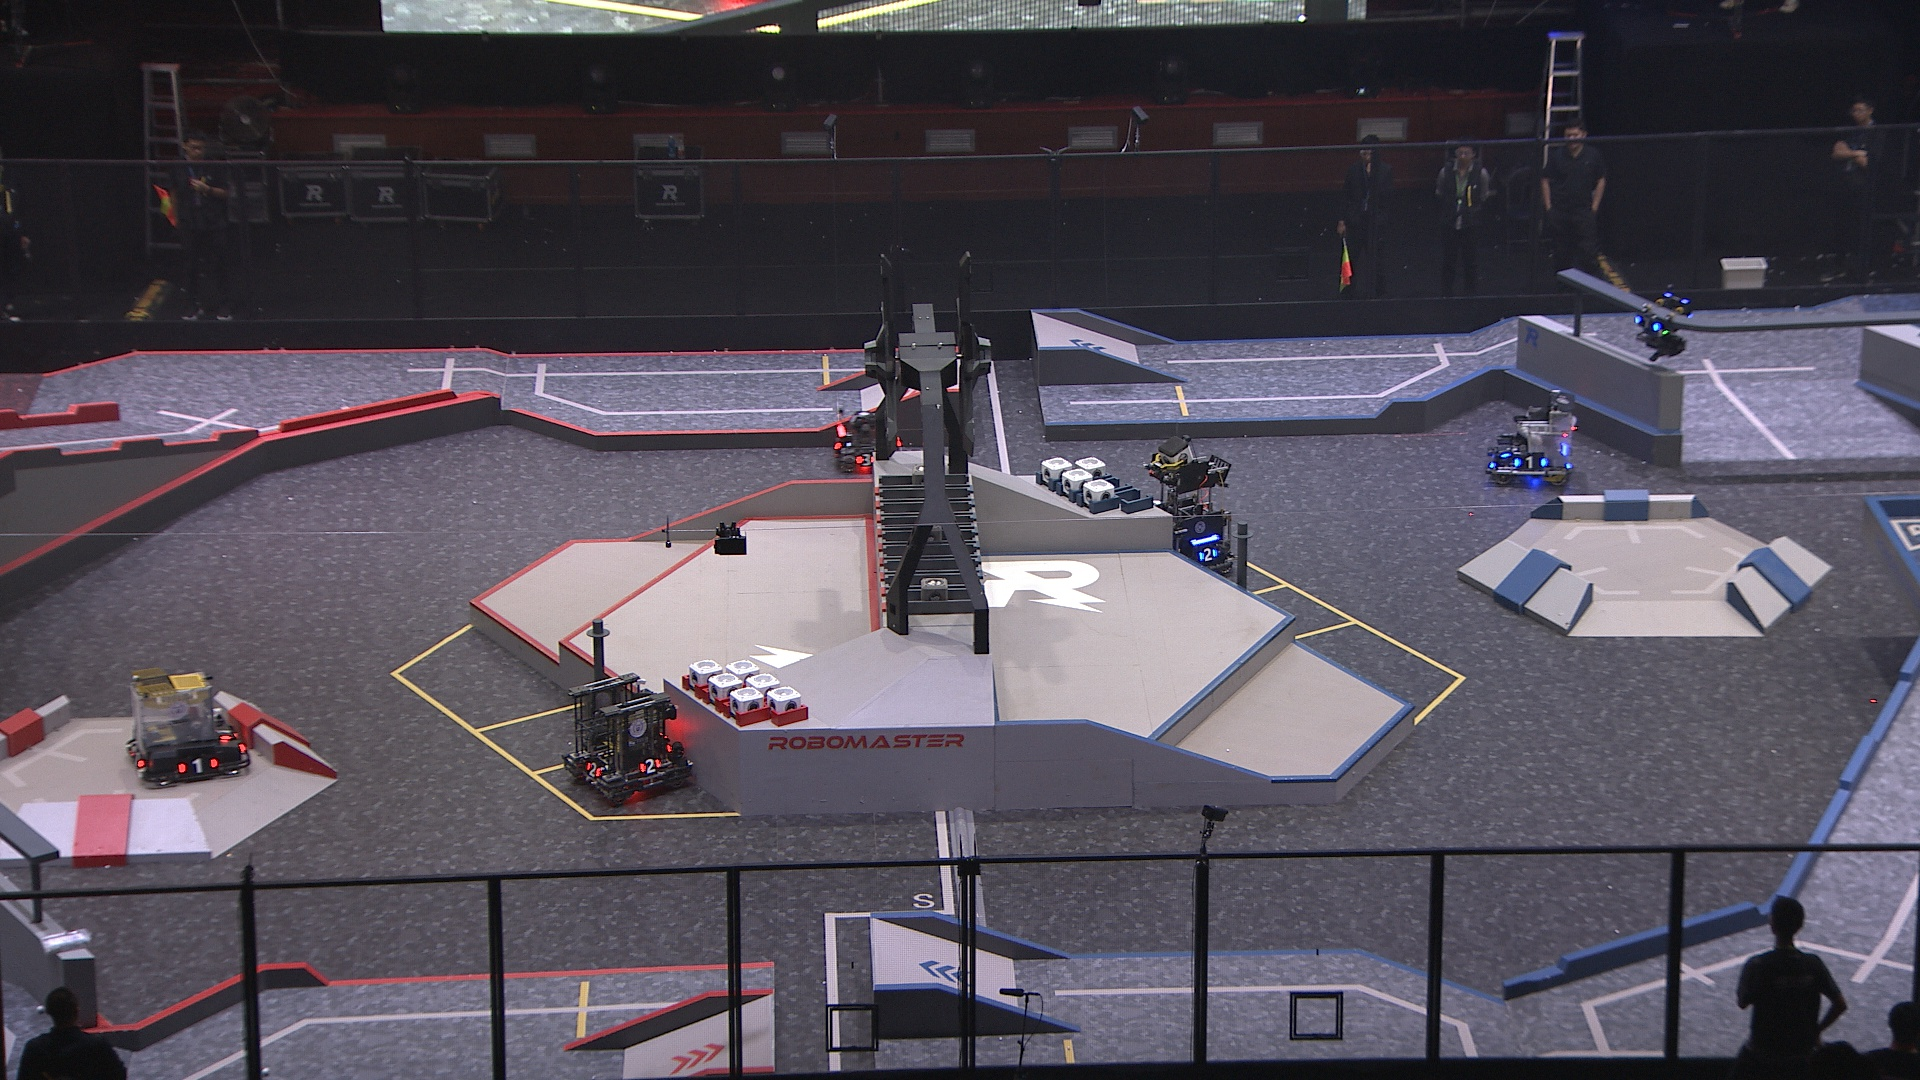armor: (179, 757, 219, 775), (1633, 314, 1662, 334), (1514, 456, 1549, 469), (214, 719, 233, 742), (641, 757, 665, 775), (584, 760, 603, 781), (1495, 440, 1513, 462), (128, 746, 144, 769), (1200, 546, 1218, 564), (855, 454, 880, 465)
car: (562, 669, 694, 808), (124, 669, 255, 789), (1147, 447, 1238, 582), (1482, 392, 1580, 493), (835, 407, 910, 483)
watcher: (1629, 285, 1695, 360)
